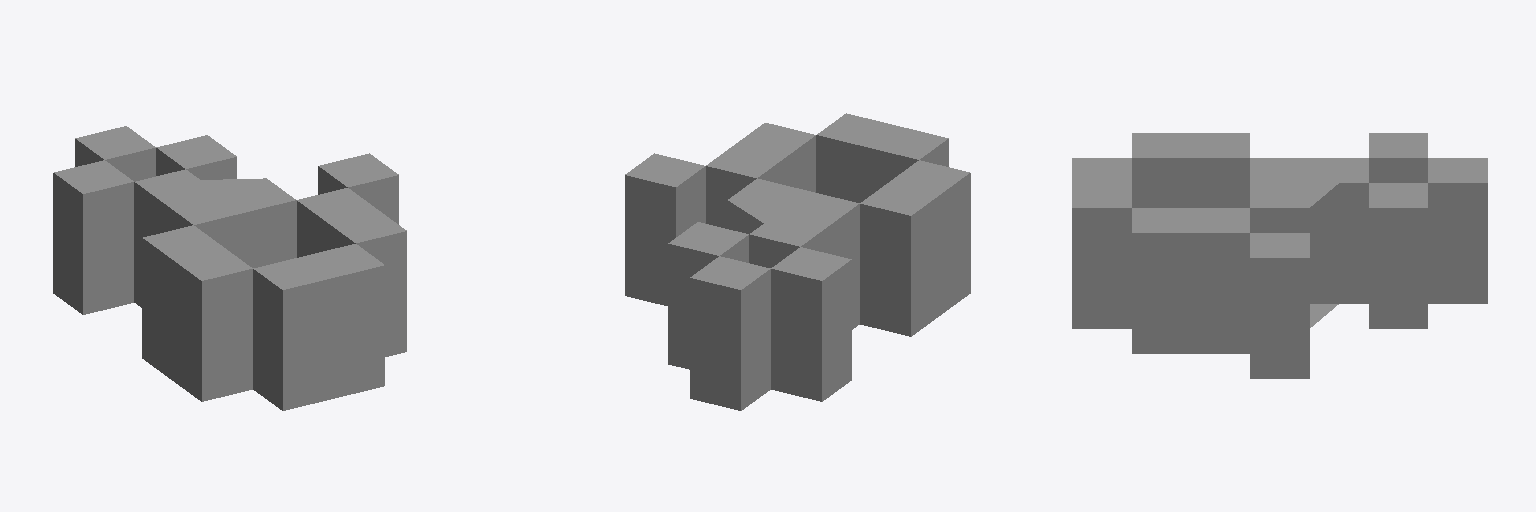
Rendered from AND.obj.
3 renders of one model, left to right at view 1: azimuth 30°, elevation 25°; view 2: azimuth 150°, elevation 25°; view 3: azimuth 270°, elevation 25°, orthographic.
Visible parts, largest first — view 1: AND_CUABC.040; view 2: AND_CUABC.040; view 3: AND_CUABC.040.
Boxes of the visible parts, <box> form: AND_CUABC.040: <box>53,126,406,410</box>; AND_CUABC.040: <box>625,113,970,410</box>; AND_CUABC.040: <box>1072,133,1487,378</box>.
Bounding box in the file's own units: 0.5556 × 0.25 × 0.7778.